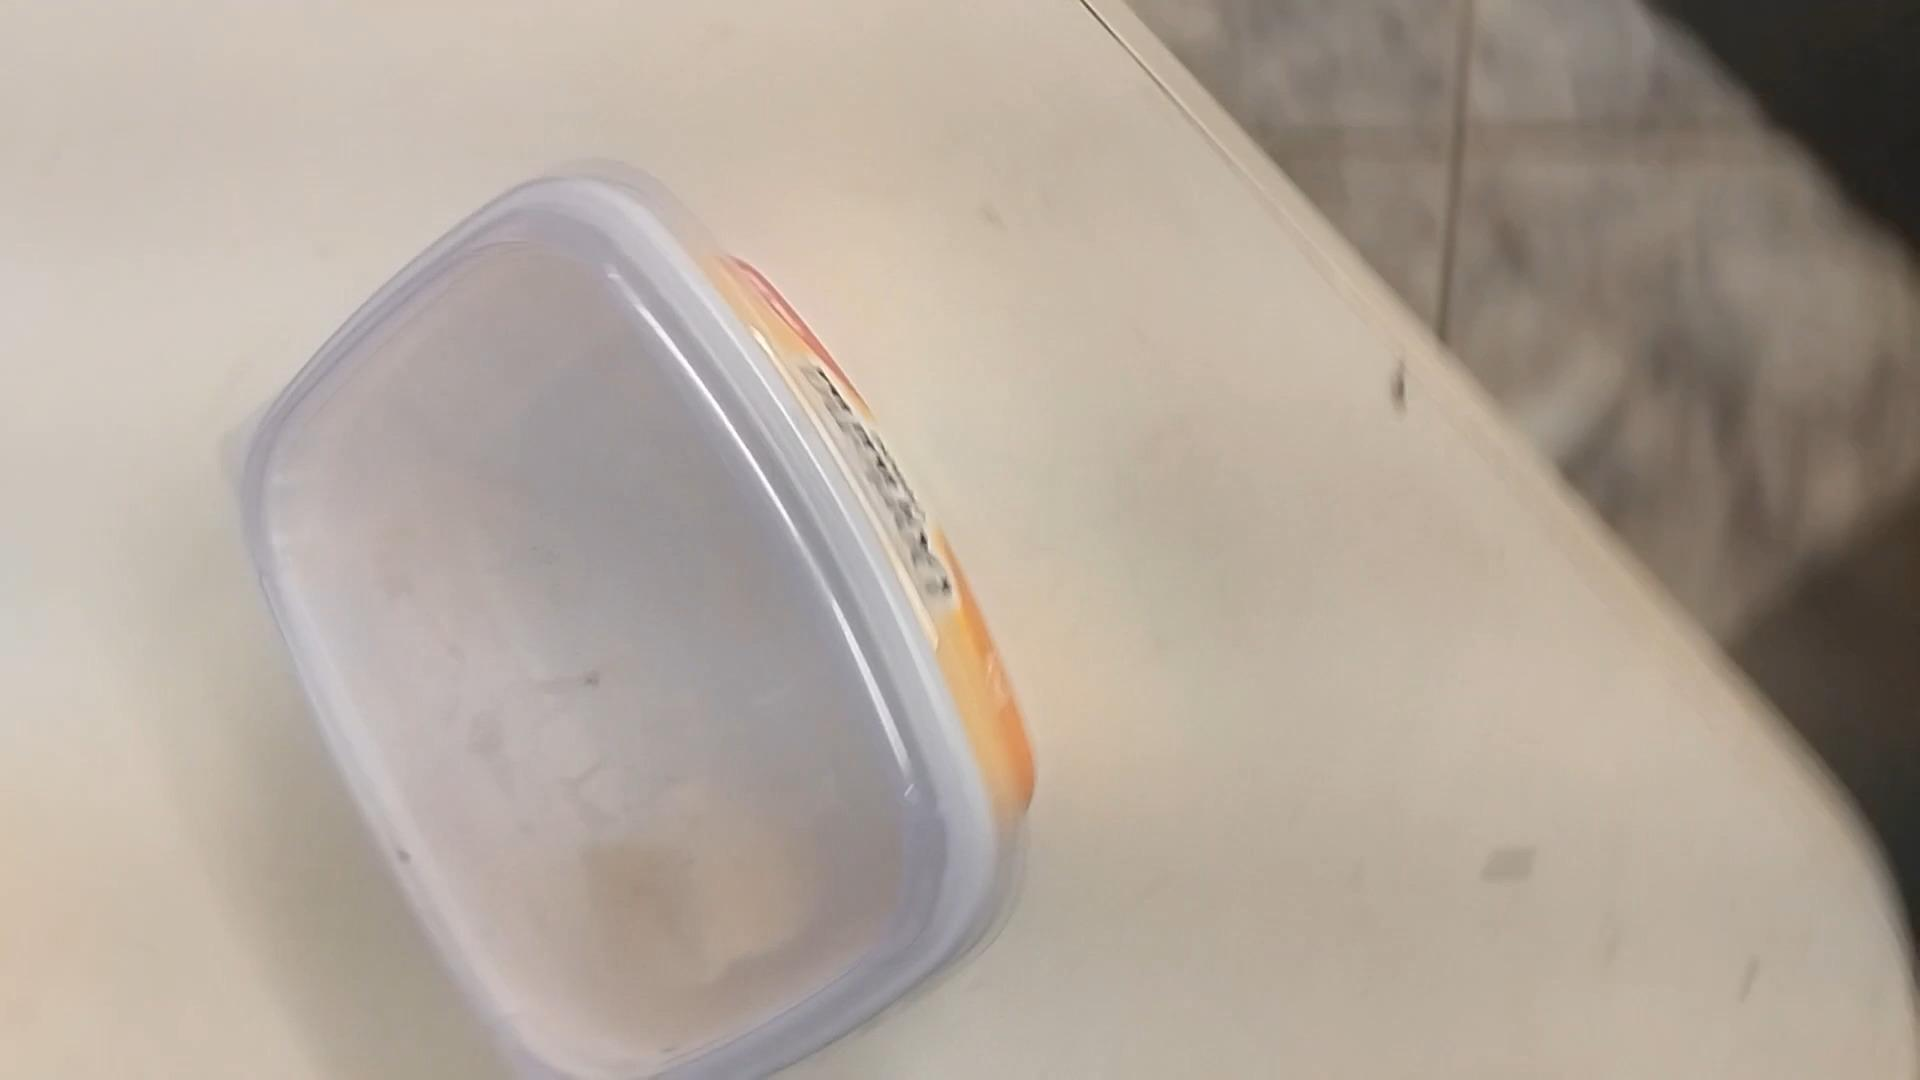butter: (237, 167, 1029, 1080)
